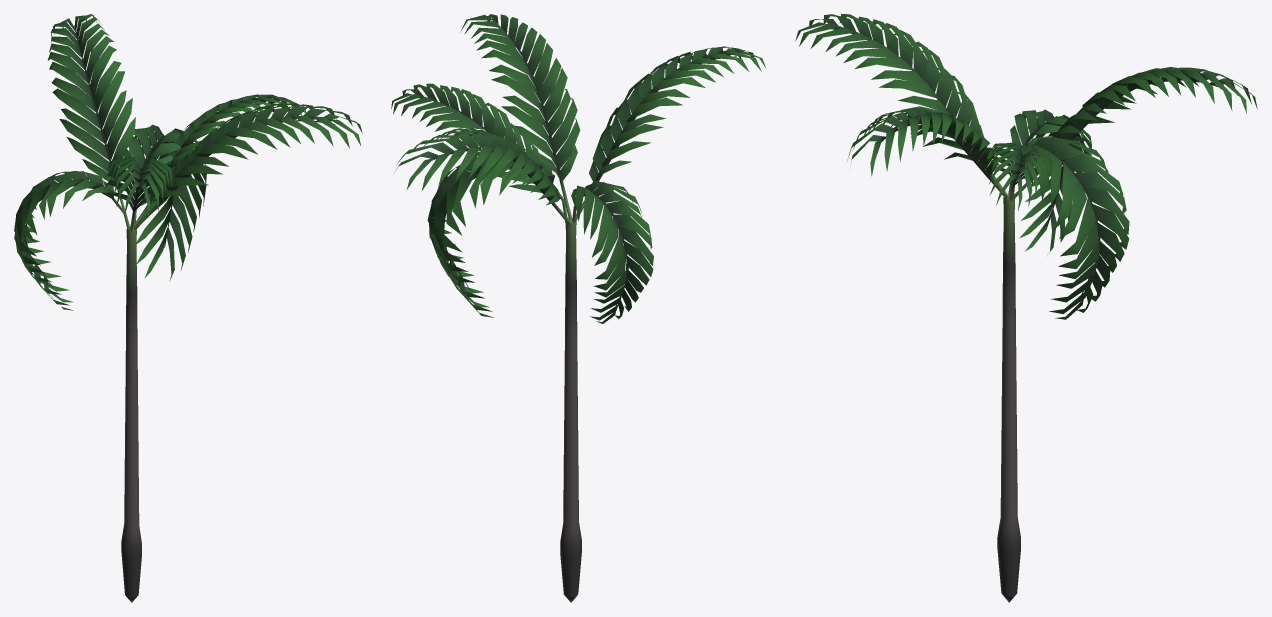
File: trees-palms-ferns-drooping-palm_v1.glb
3 views of the same model, side by side, from view 1: azimuth 30°, elevation 25°; view 2: azimuth 150°, elevation 25°; view 3: azimuth 270°, elevation 25° (orthographic). The views are drawn at different scales.
Parts seen in each view (by area): view 1: Drooping Palm_v1; view 2: Drooping Palm_v1; view 3: Drooping Palm_v1.
Boxes of the visible parts, <box> form: Drooping Palm_v1: <box>14,14,362,602</box>; Drooping Palm_v1: <box>391,14,765,602</box>; Drooping Palm_v1: <box>795,14,1257,602</box>.
Bounding box in the file's own units: 5.65 × 10 × 7.61.
